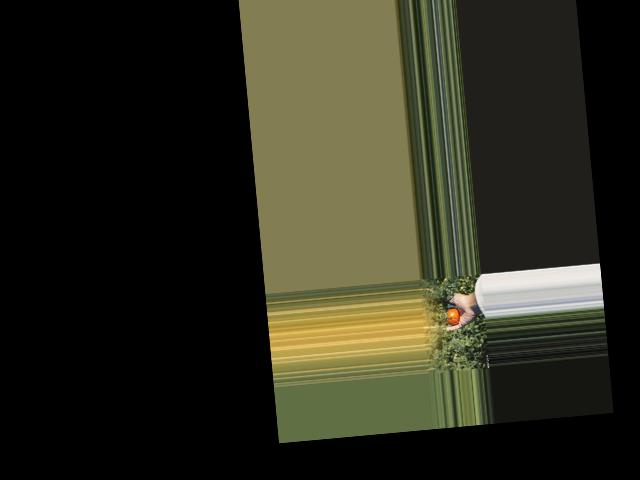tomato: (444, 308, 460, 326)
